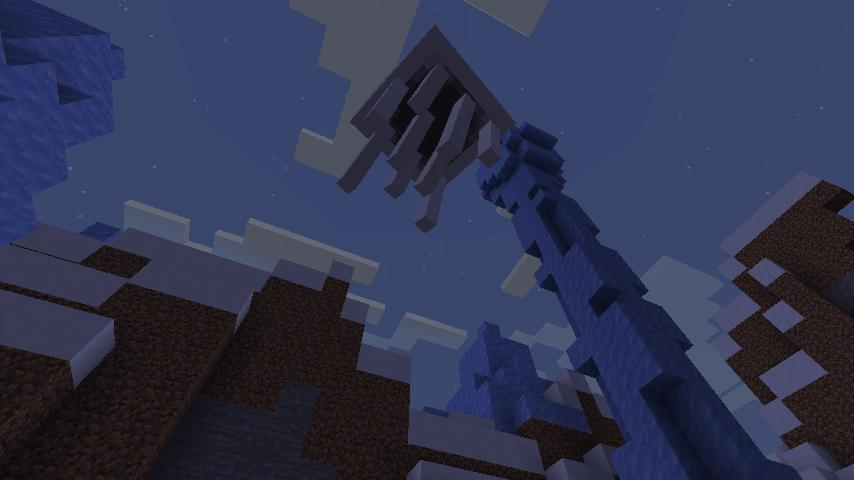ghast: (335, 18, 520, 236)
